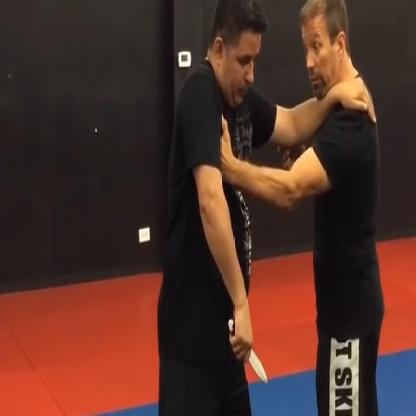knife: (225, 313, 270, 387)
